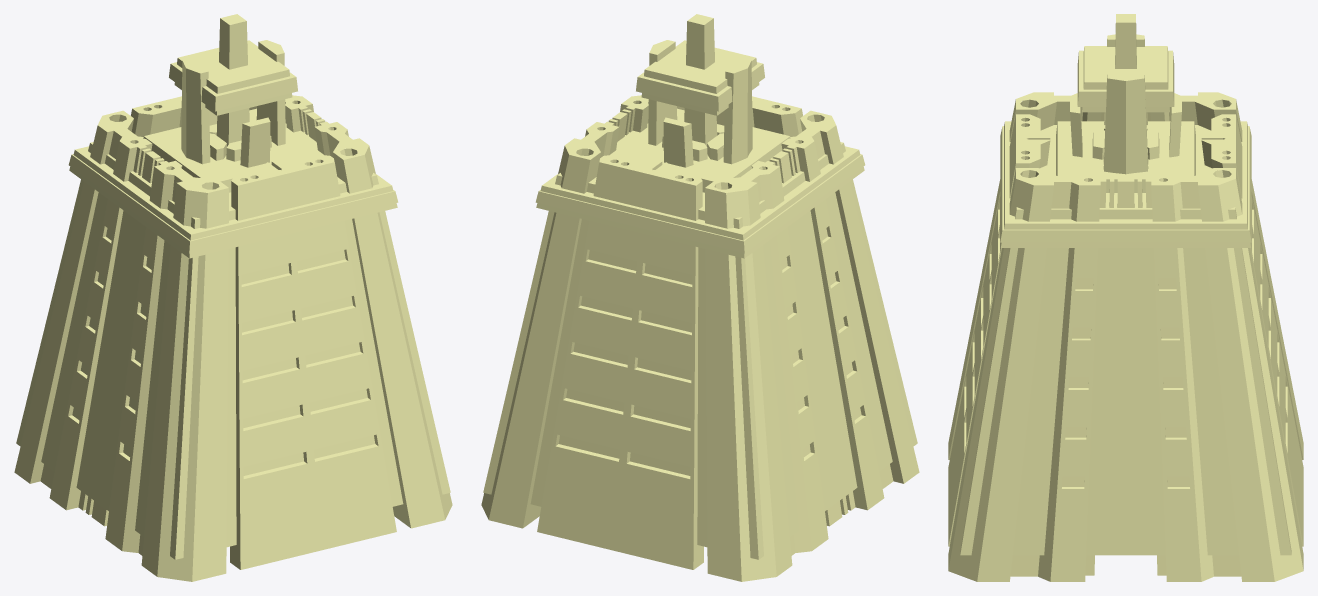
File: MangaKa Props - F_S_ScifiBuilding_54.glb
3 renders of one model, left to right at view 1: azimuth 30°, elevation 25°; view 2: azimuth 150°, elevation 25°; view 3: azimuth 270°, elevation 25°, orthographic. The views are drawn at different scales.
Parts seen in each view (by area): view 1: F_S_ScifiBuilding_54001_blueScreen, F_S_ScifiBuilding_54004_blueScreen, F_S_ScifiBuilding_54002_blueScreen, F_S_ScifiBuilding_54_blueScreen, F_S_ScifiBuilding_54003_blueScreen; view 2: F_S_ScifiBuilding_54001_blueScreen, F_S_ScifiBuilding_54004_blueScreen, F_S_ScifiBuilding_54002_blueScreen, F_S_ScifiBuilding_54_blueScreen, F_S_ScifiBuilding_54003_blueScreen; view 3: F_S_ScifiBuilding_54001_blueScreen, F_S_ScifiBuilding_54004_blueScreen, F_S_ScifiBuilding_54002_blueScreen, F_S_ScifiBuilding_54_blueScreen, F_S_ScifiBuilding_54003_blueScreen.
Part boxes in pixels (x1,y1,x2,y2): F_S_ScifiBuilding_54001_blueScreen: (14,58,452,581); F_S_ScifiBuilding_54004_blueScreen: (16,18,450,559); F_S_ScifiBuilding_54002_blueScreen: (79,102,383,278); F_S_ScifiBuilding_54_blueScreen: (98,14,368,192); F_S_ScifiBuilding_54003_blueScreen: (72,228,375,475); F_S_ScifiBuilding_54001_blueScreen: (481,58,919,581); F_S_ScifiBuilding_54004_blueScreen: (483,18,917,559); F_S_ScifiBuilding_54002_blueScreen: (550,102,854,278); F_S_ScifiBuilding_54_blueScreen: (565,14,835,192); F_S_ScifiBuilding_54003_blueScreen: (558,228,861,475); F_S_ScifiBuilding_54001_blueScreen: (948,47,1303,581); F_S_ScifiBuilding_54004_blueScreen: (960,22,1291,555); F_S_ScifiBuilding_54002_blueScreen: (1001,99,1250,272); F_S_ScifiBuilding_54_blueScreen: (1016,14,1235,185); F_S_ScifiBuilding_54003_blueScreen: (1062,278,1189,486).
Size of the model in its own units: 8 by 12.14 by 8.
